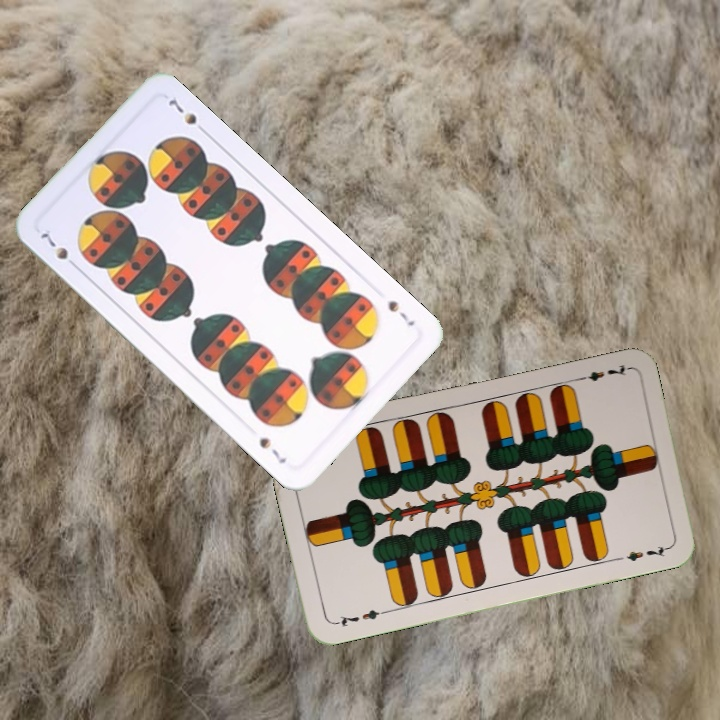E7: (330, 605, 388, 630), (572, 360, 631, 384)
S7: (36, 228, 82, 272), (383, 296, 418, 329)
